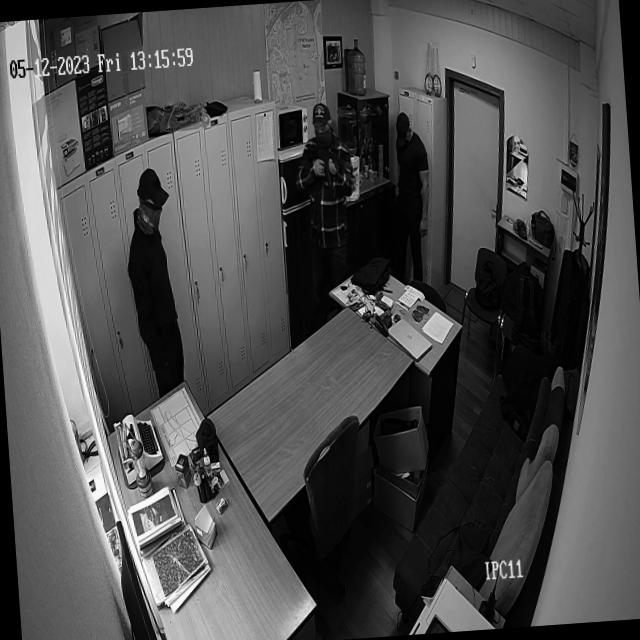gun: (311, 143, 355, 196)
person: (121, 167, 186, 392), (384, 110, 436, 278)
person with a gun: (292, 106, 365, 332)
